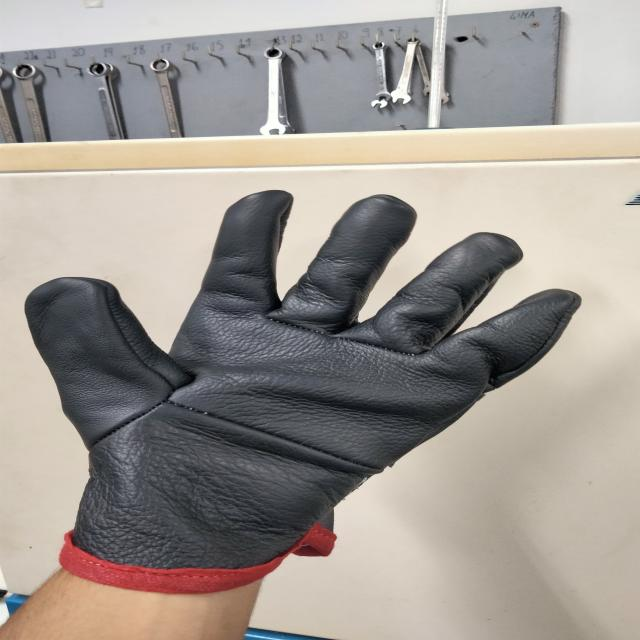Gloves: (33, 185, 575, 588)
